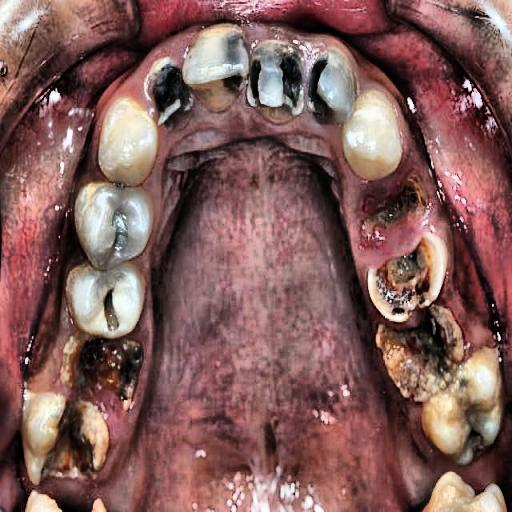Caries: (355, 252, 512, 479), (206, 25, 358, 125), (42, 307, 150, 399), (352, 166, 441, 269), (0, 399, 122, 473), (149, 52, 201, 124)
